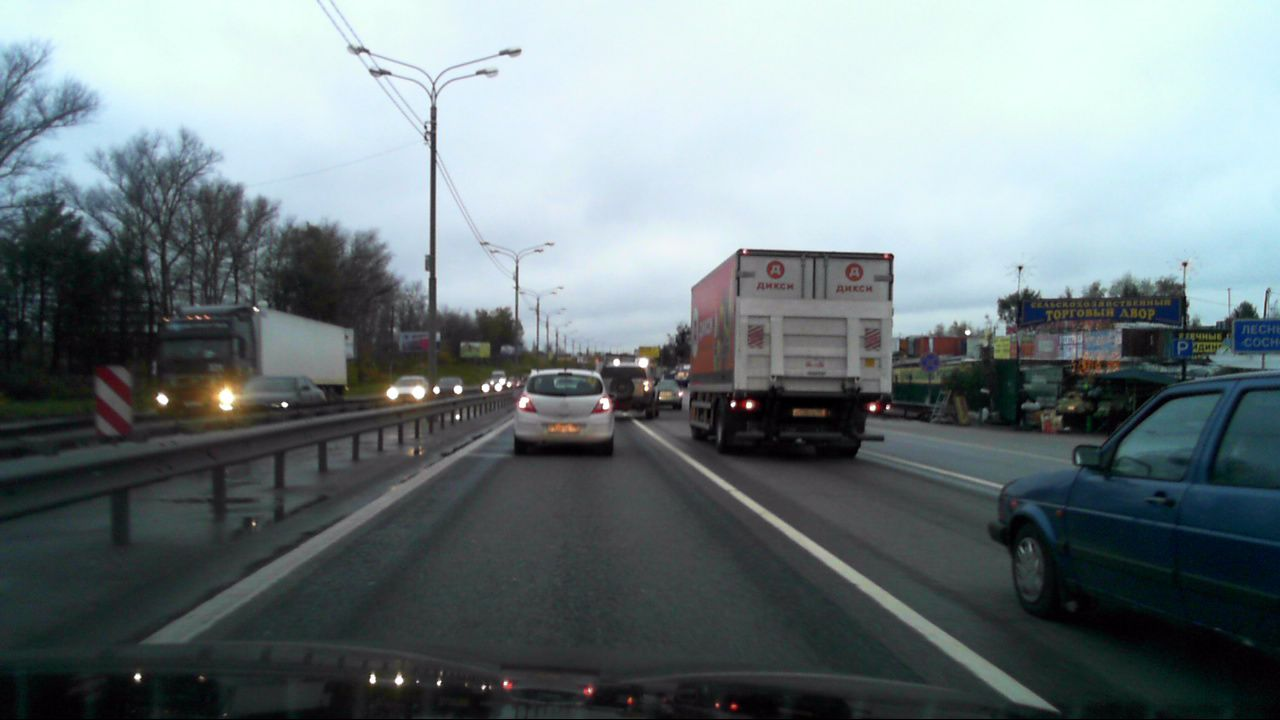No Parking: (920, 353, 940, 372)
